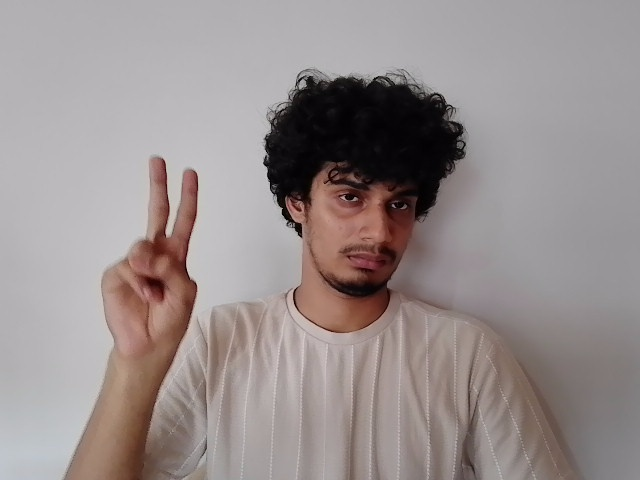travel: (94, 144, 218, 353)
